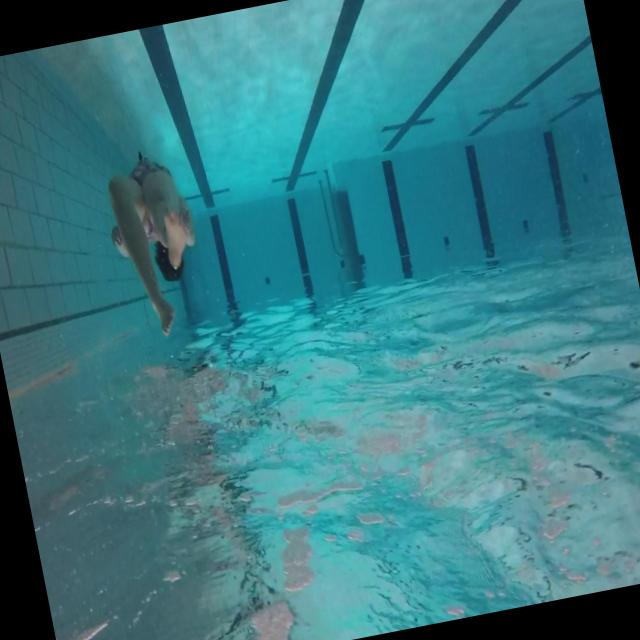human: (96, 143, 215, 344)
